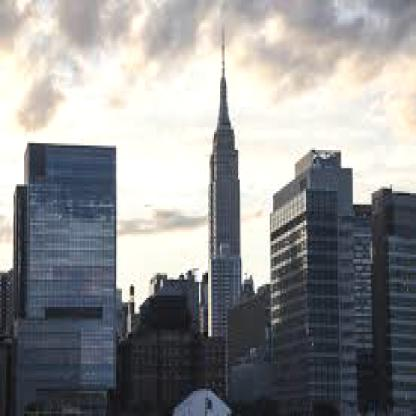Empire-State-building: (208, 10, 244, 302)
